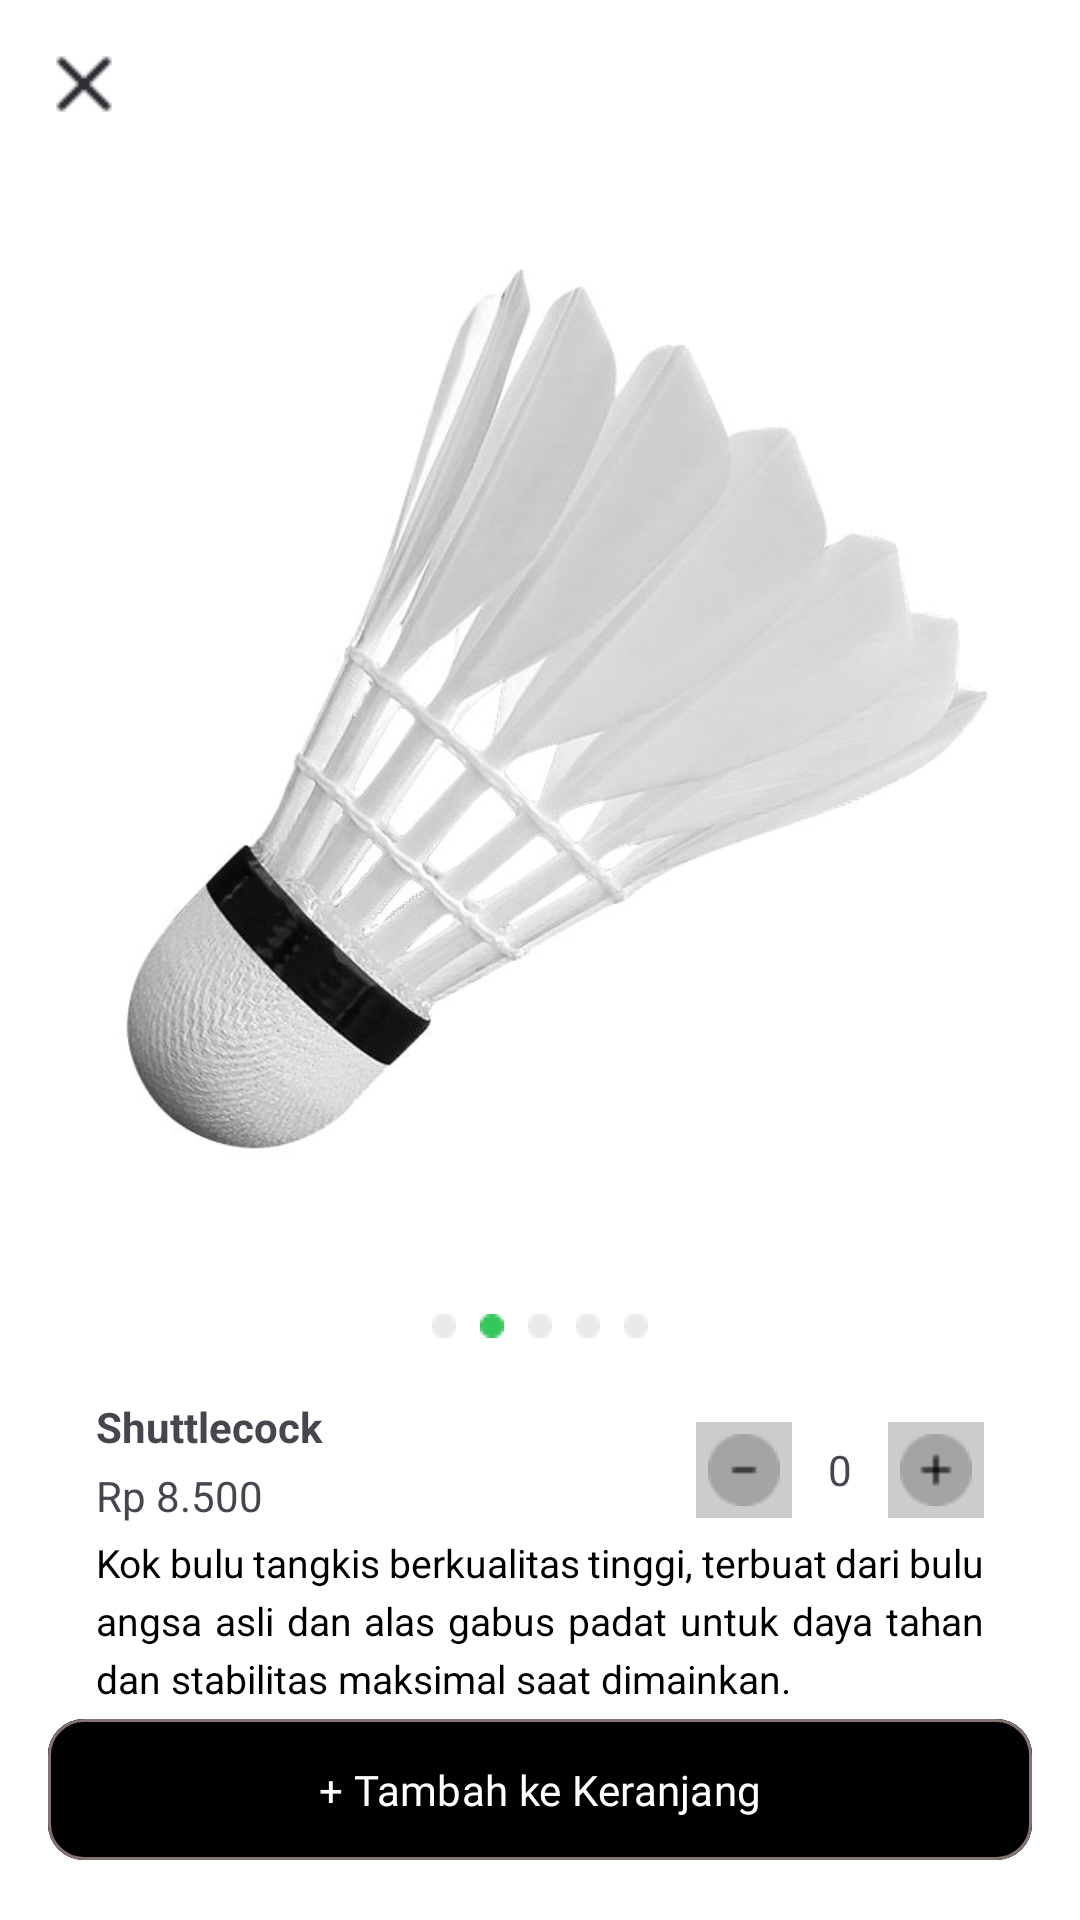

Icon bounding boxes for this 1080*1920 phone screenshot, format (x1, y1, x2, y2):
Kurang: (696, 1422, 792, 1518)
Tambah: (888, 1422, 984, 1518)
Tutup: (56, 56, 112, 112)
